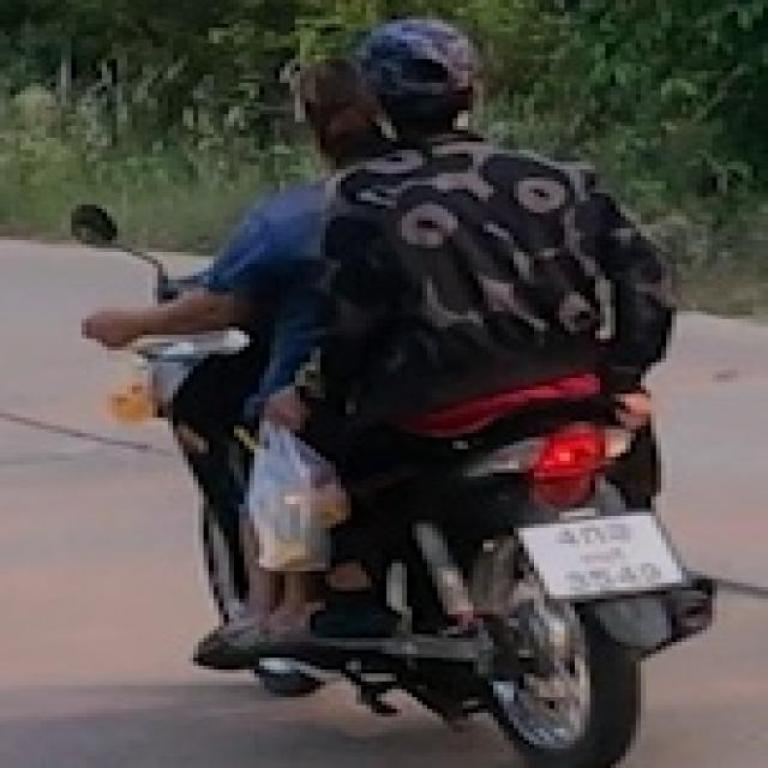license plate: (516, 514, 696, 601)
